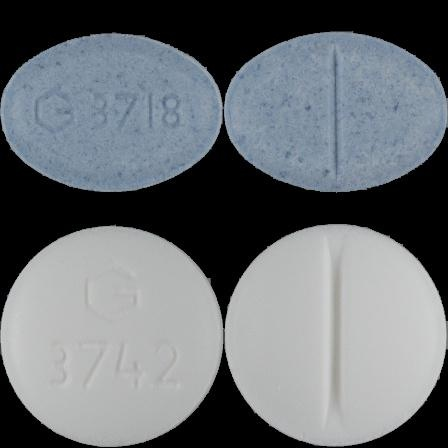59762-3718: (0, 0, 224, 224)
